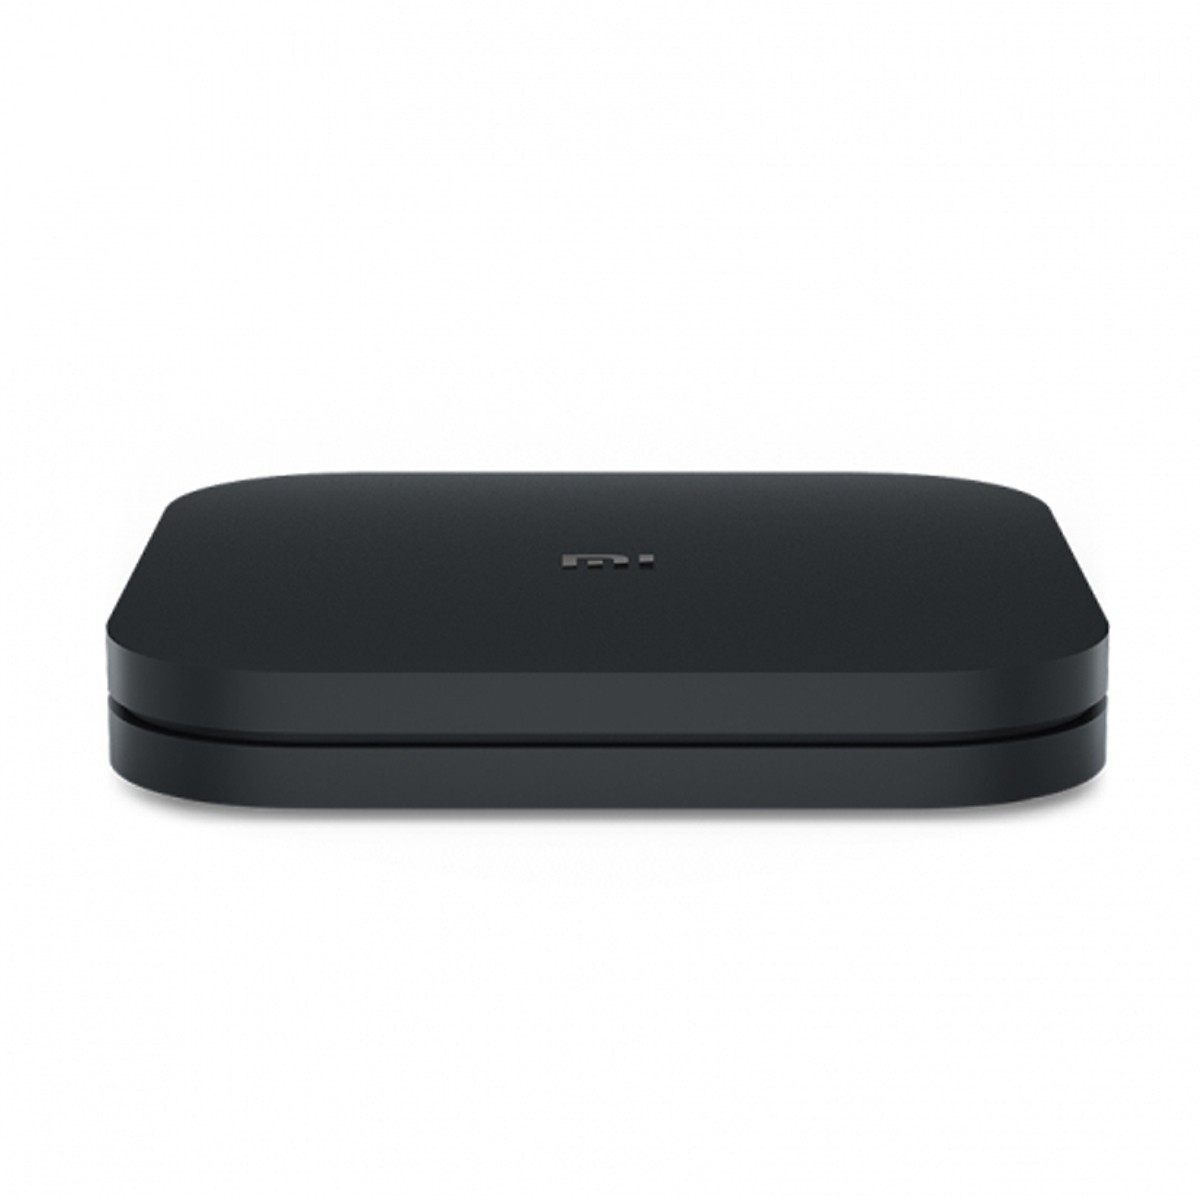Xiaomi: (495, 509, 788, 734)
